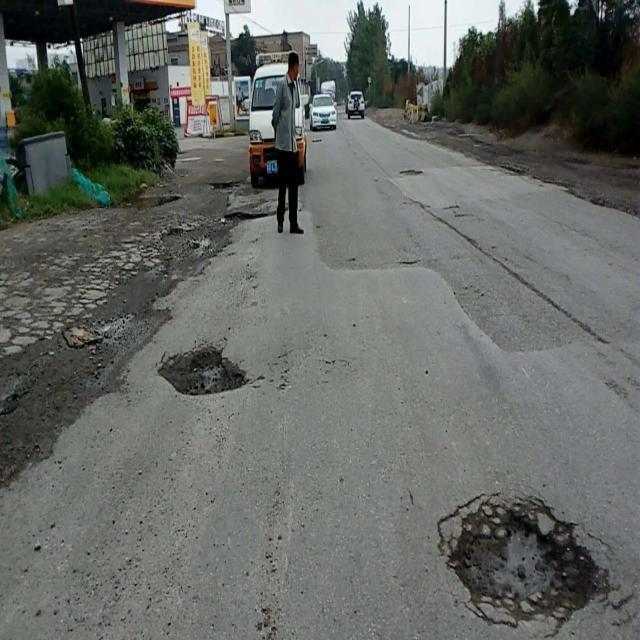pothole: (440, 488, 605, 621), (155, 346, 252, 396)
